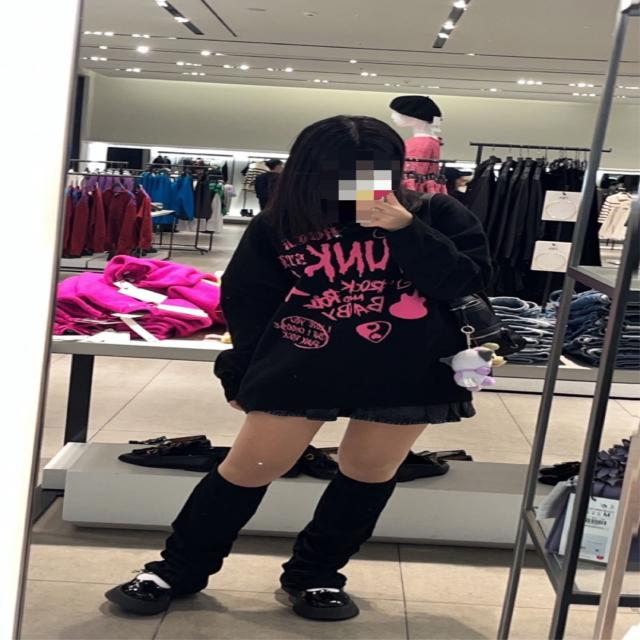mtm: (222, 193, 496, 410)
skirt: (232, 392, 480, 430)
